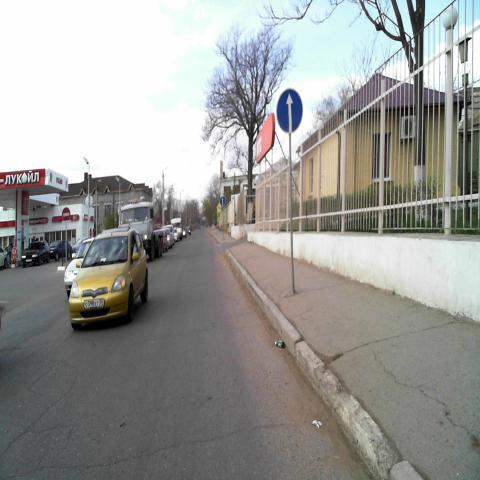3_1: (61, 206, 71, 222)
4_1_1: (277, 85, 303, 134), (220, 195, 225, 207)
